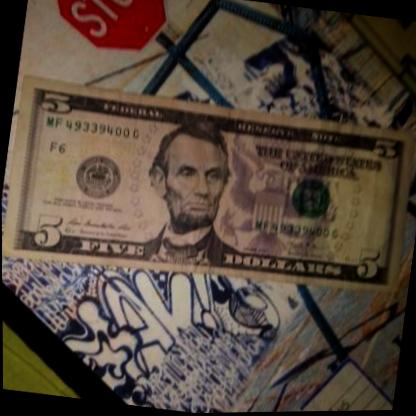five-front: (0, 68, 416, 307)
